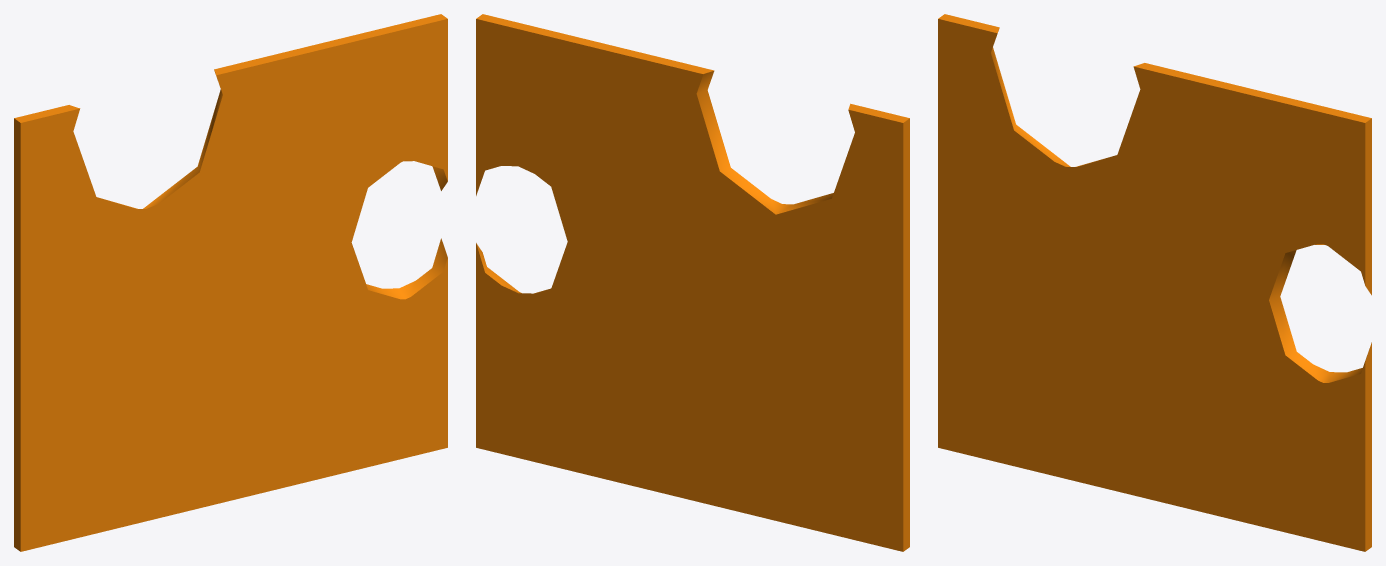
File: cheese_slice.FBX
3 views of the same model, side by side, from view 1: azimuth 30°, elevation 25°; view 2: azimuth 150°, elevation 25°; view 3: azimuth 330°, elevation 25° (orthographic).
Visible parts, largest first — view 1: Cylinder002; view 2: Cylinder002; view 3: Cylinder002.
Part boxes in pixels (x1=…): Cylinder002: x1=14, y1=14, x2=447, y2=551; Cylinder002: x1=476, y1=14, x2=909, y2=551; Cylinder002: x1=938, y1=14, x2=1371, y2=551.
Size of the model in its own units: 12.71 by 12.19 by 0.3401.
